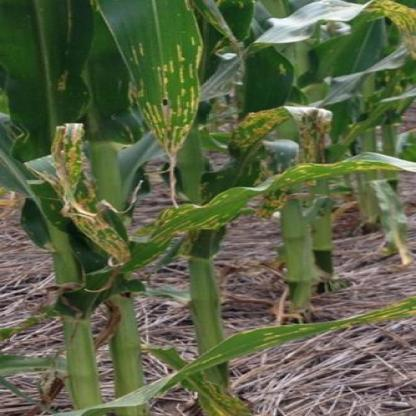Corn leaf blight: (95, 150, 411, 301), (88, 295, 415, 415), (96, 1, 204, 193), (30, 123, 132, 287)
